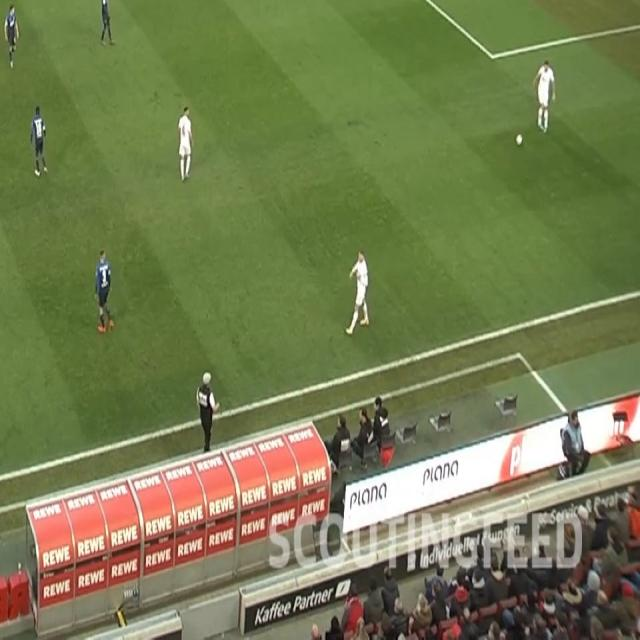ball: (514, 132, 524, 148)
